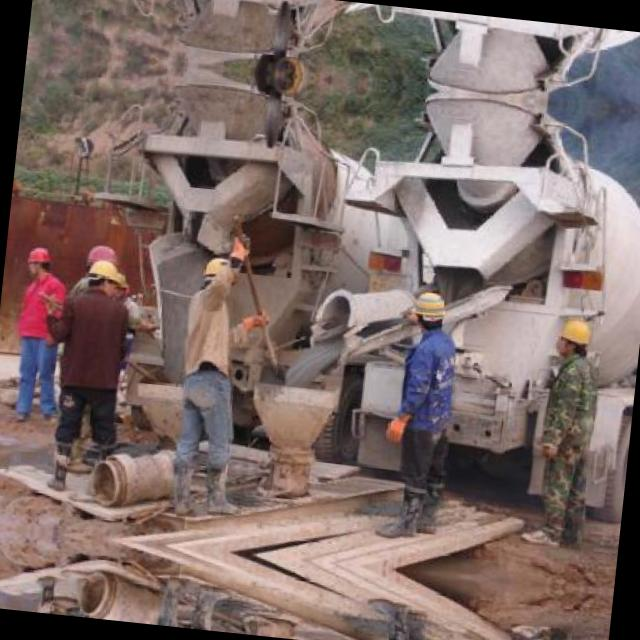helmet: (196, 249, 236, 301), (553, 314, 594, 362), (404, 289, 448, 333), (82, 256, 116, 296), (26, 240, 56, 280), (84, 241, 118, 273)
